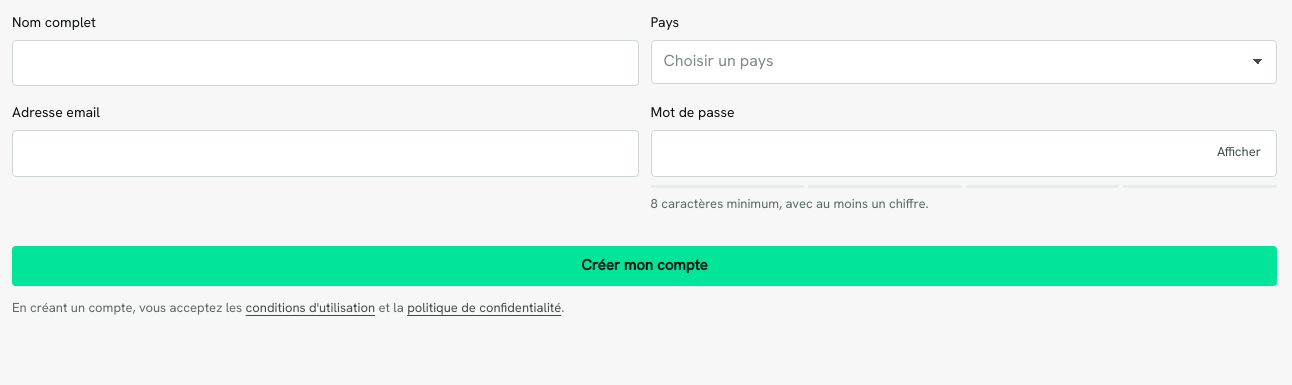
Test: RegisterForm › refuse un mot de passe sans chiffre
In the password field labelled "Mot de passe": [964, 154] box x1=650 y1=130 x2=1277 y2=177, type "motdepasse"
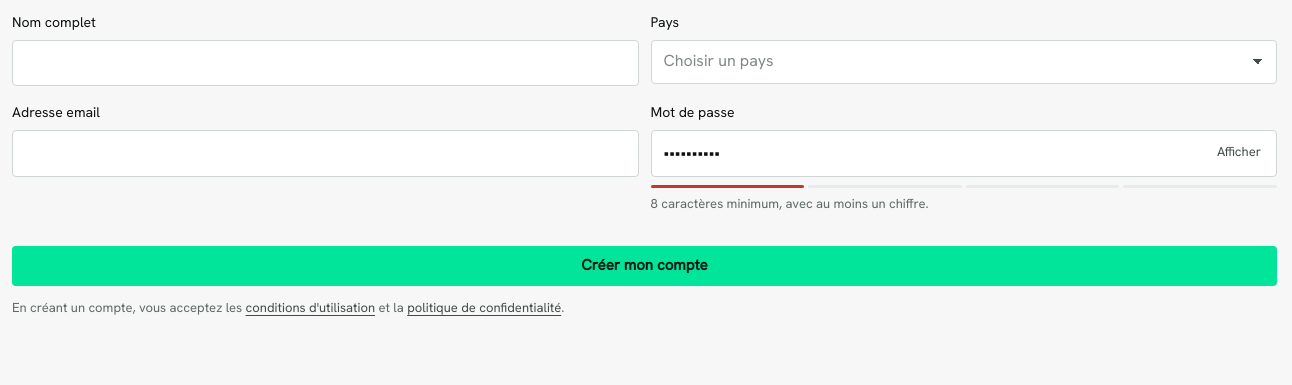
Click the button "Créer mon compte": [644, 266] box x1=12 y1=246 x2=1277 y2=286
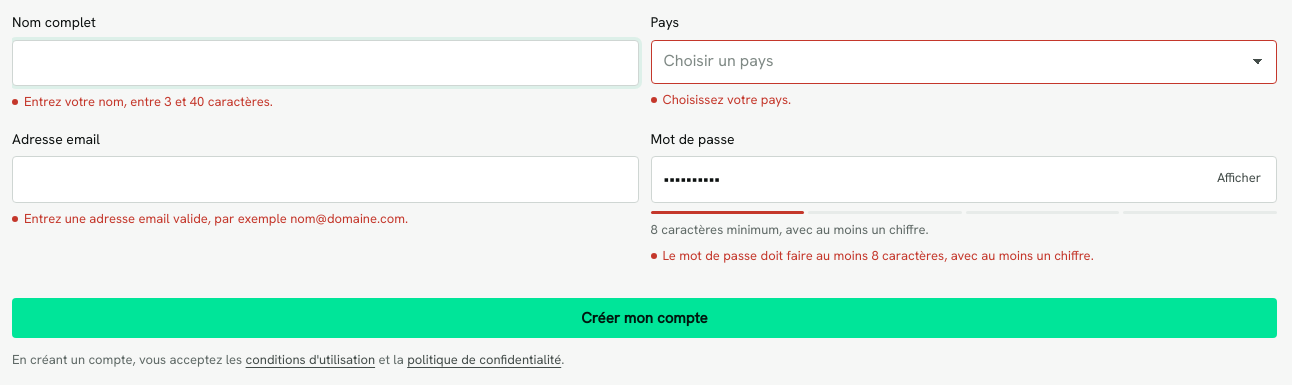
Now the text "au moins 8 caractères, avec au moins un chiffre." is shown, box x1=662 y1=247 x2=1094 y2=264
